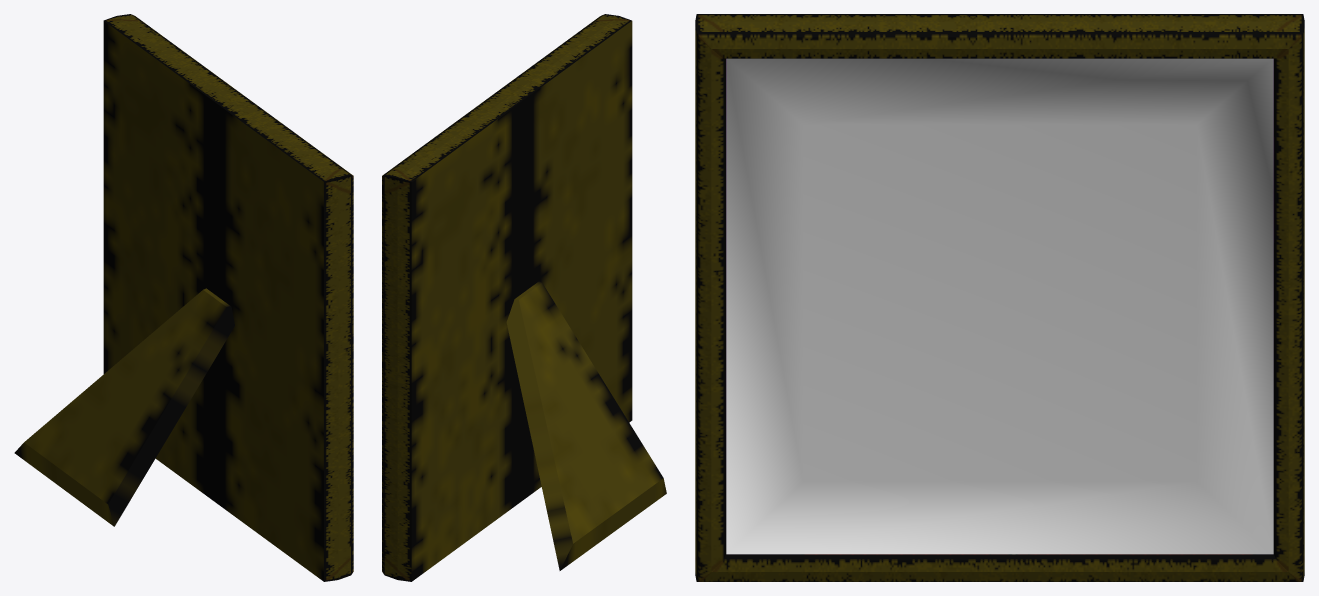
Rendered from Pictureframe.fbx.
The picture shows the model from 3 angles, left to right: view 1: azimuth 30°, elevation 25°; view 2: azimuth 150°, elevation 25°; view 3: azimuth 270°, elevation 25°; orthographic projection. The views are drawn at different scales.
Visible parts, largest first — view 1: Pictureframe; view 2: Pictureframe; view 3: Pictureframe.
Boxes of the visible parts, x1,y1,x2,y2 form: Pictureframe: [14, 14, 353, 581]; Pictureframe: [382, 14, 666, 581]; Pictureframe: [695, 14, 1304, 581].
Bounding box in the file's own units: 13.41 × 33.06 × 33.06.
